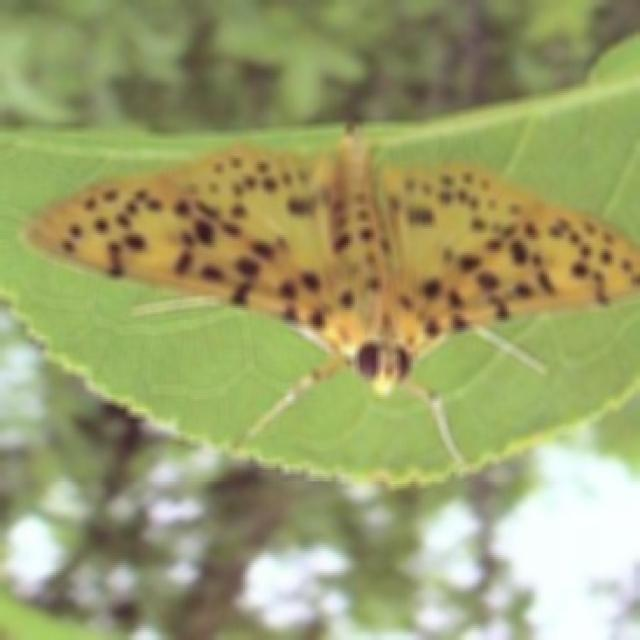peach borer: (25, 127, 640, 402)
